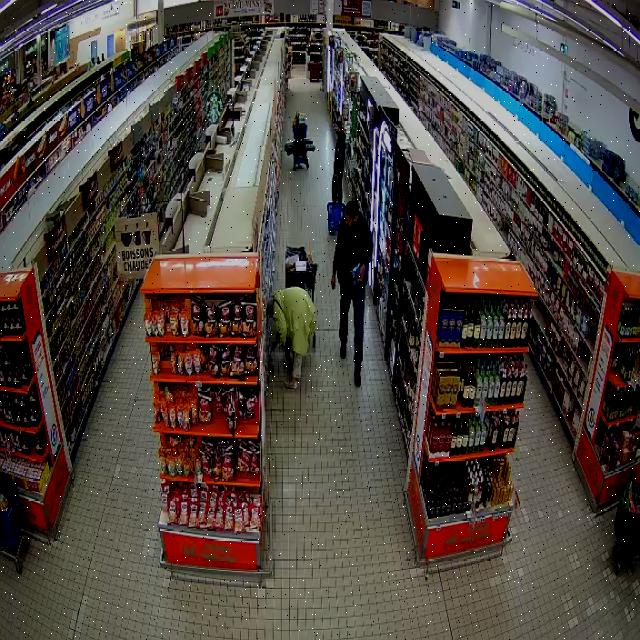article: (350, 264, 360, 284)
hands: (356, 264, 365, 280), (331, 274, 335, 289)
person: (331, 200, 372, 386), (267, 287, 315, 388)
